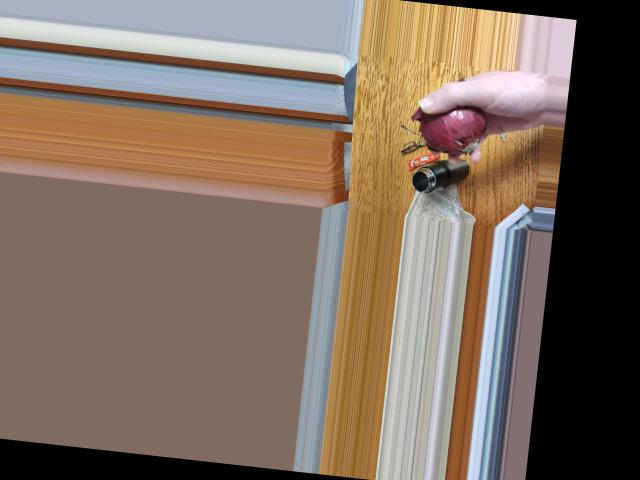onion: (424, 93, 490, 156)
